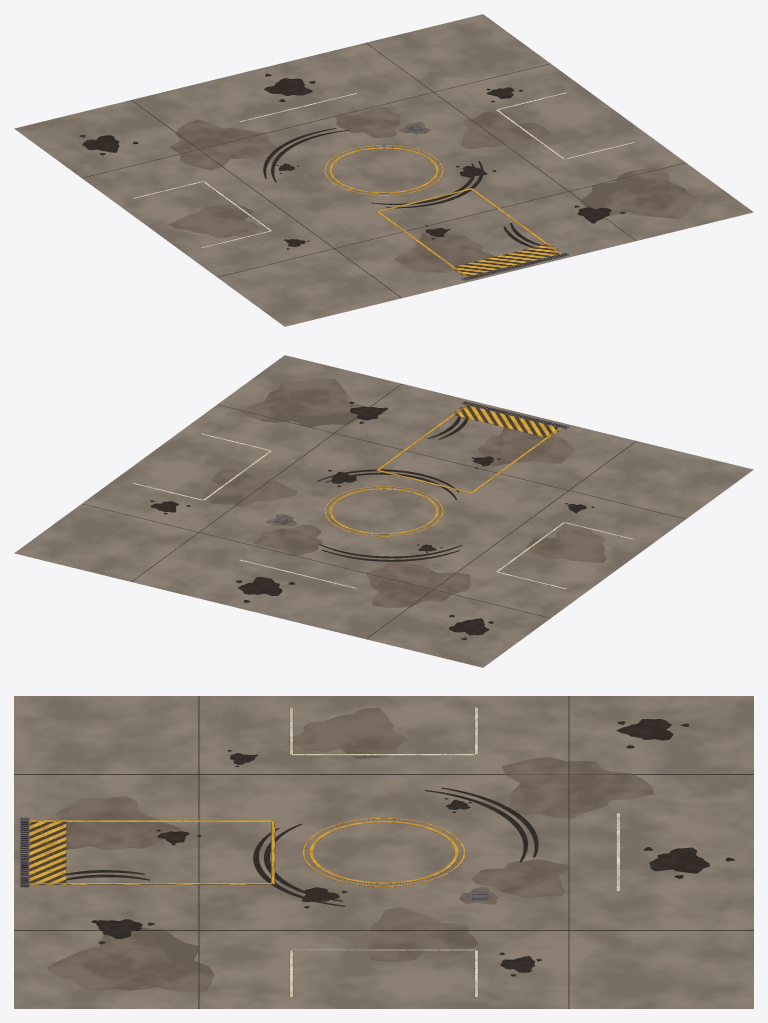
Rendered from ws_floor.glb.
The picture shows the model from 3 angles, top to bottom: view 1: azimuth 30°, elevation 25°; view 2: azimuth 150°, elevation 25°; view 3: azimuth 270°, elevation 25°; orthographic projection. The views are drawn at different scales.
Parts seen in each view (by area): view 1: floor; view 2: floor; view 3: floor.
Boxes of the visible parts, left/top/right/bottom form: floor: left=14, top=14, right=753, bottom=326; floor: left=14, top=355, right=753, bottom=667; floor: left=14, top=696, right=753, bottom=1008.
Size of the model in its own units: 24 by 0.018 by 24.
1 material, 1 textured.
